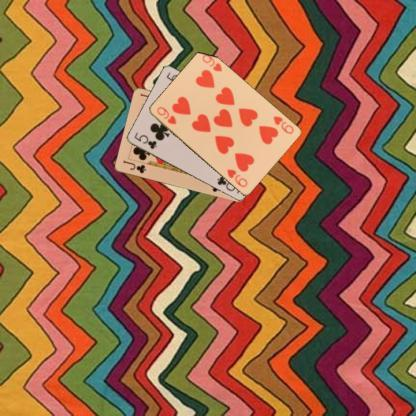5c: (132, 130, 158, 150)
9h: (270, 113, 295, 135), (154, 104, 178, 125)
Jc: (120, 158, 147, 174)
